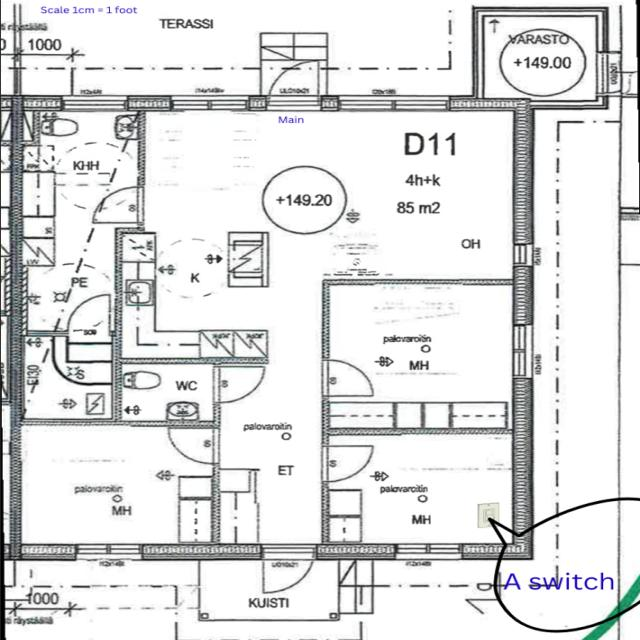main: (256, 57, 329, 118)
switch: (474, 498, 501, 532)
wall: (508, 374, 534, 572), (506, 93, 538, 248), (137, 539, 271, 564), (313, 538, 404, 565), (4, 537, 87, 566), (440, 94, 539, 118), (509, 263, 539, 330), (459, 539, 537, 564), (124, 91, 180, 115)
